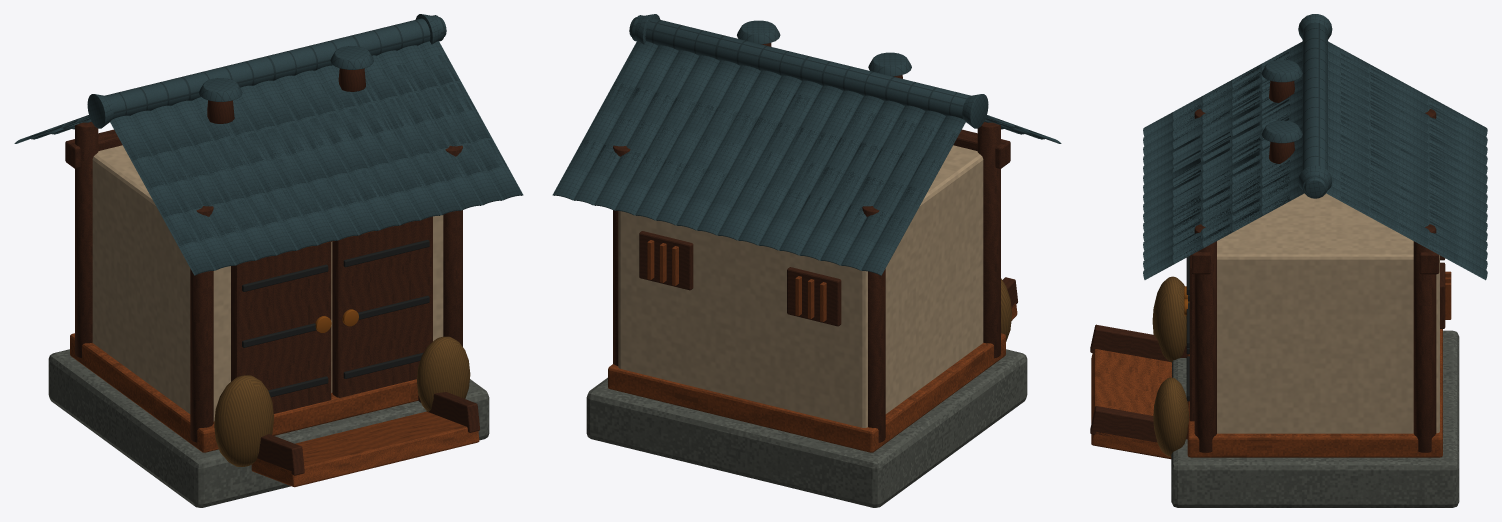
File: building_warehouse.glb
3 renders of one model, left to right at view 1: azimuth 30°, elevation 25°; view 2: azimuth 150°, elevation 25°; view 3: azimuth 270°, elevation 25°, orthographic. The views are drawn at different scales.
Parts seen in each view (by area): view 1: ThickPlasterWalls, HighStonePlinth, DoubleDoor.001, DoubleDoor, LoadingRamp, RoofRidge.002, WarehouseFloor, GrainSack_00, LoadPost.001, LoadPost, GrainSack_01, LoadPost.002 (+91 smaller); view 2: ThickPlasterWalls, HighStonePlinth, WarehouseFloor, RoofRidge.002, LoadPost, LoadPost.001, VentFrame, VentFrame.001, RoofTile.323, RoofTile.343, RoofTile.397, RoofTile.337 (+81 smaller); view 3: ThickPlasterWalls, HighStonePlinth, WarehouseFloor, LoadingRamp, LoadPost.003, LoadPost.002, RoofRidge.002, GrainSack_00, GrainSack_01, RampRail, RampRail.001, DoubleDoor.001 (+58 smaller).
Boxes of the visible parts, bbox=[...] form: ThickPlasterWalls: bbox=[92, 145, 443, 421]; HighStonePlinth: bbox=[48, 349, 489, 507]; DoubleDoor.001: bbox=[332, 216, 432, 397]; DoubleDoor: bbox=[231, 242, 331, 413]; LoadingRamp: bbox=[251, 411, 479, 487]; RoofRidge.002: bbox=[105, 15, 444, 119]; WarehouseFloor: bbox=[70, 333, 418, 452]; GrainSack_00: bbox=[214, 375, 273, 466]; LoadPost.001: bbox=[75, 122, 98, 358]; LoadPost: bbox=[190, 206, 213, 442]; GrainSack_01: bbox=[417, 336, 470, 411]; LoadPost.002: bbox=[443, 145, 462, 346]; ThickPlasterWalls: bbox=[618, 145, 983, 427]; HighStonePlinth: bbox=[586, 349, 1027, 507]; WarehouseFloor: bbox=[608, 333, 1005, 452]; RoofRidge.002: bbox=[631, 15, 970, 119]; LoadPost: bbox=[977, 122, 1000, 358]; LoadPost.001: bbox=[862, 206, 885, 442]; VentFrame: bbox=[787, 267, 841, 326]; VentFrame.001: bbox=[639, 231, 693, 290]; RoofTile.323: bbox=[877, 186, 926, 246]; RoofTile.343: bbox=[794, 166, 843, 226]; RoofTile.397: bbox=[584, 83, 633, 142]; RoofTile.337: bbox=[831, 143, 879, 202]; ThickPlasterWalls: bbox=[1217, 193, 1439, 433]; HighStonePlinth: bbox=[1171, 330, 1459, 507]; WarehouseFloor: bbox=[1187, 329, 1442, 457]; LoadingRamp: bbox=[1091, 349, 1171, 459]; LoadPost.003: bbox=[1413, 224, 1436, 452]; LoadPost.002: bbox=[1194, 224, 1216, 452]; RoofRidge.002: bbox=[1302, 22, 1327, 198]; GrainSack_00: bbox=[1152, 276, 1189, 361]; GrainSack_01: bbox=[1153, 377, 1189, 456]; RampRail: bbox=[1090, 324, 1187, 362]; RampRail.001: bbox=[1090, 406, 1187, 442]; DoubleDoor.001: bbox=[1189, 255, 1194, 421].
Bounding box in the file's own units: 2.52 × 2.56 × 2.65.
Materials: 8 (8 with a texture image).
